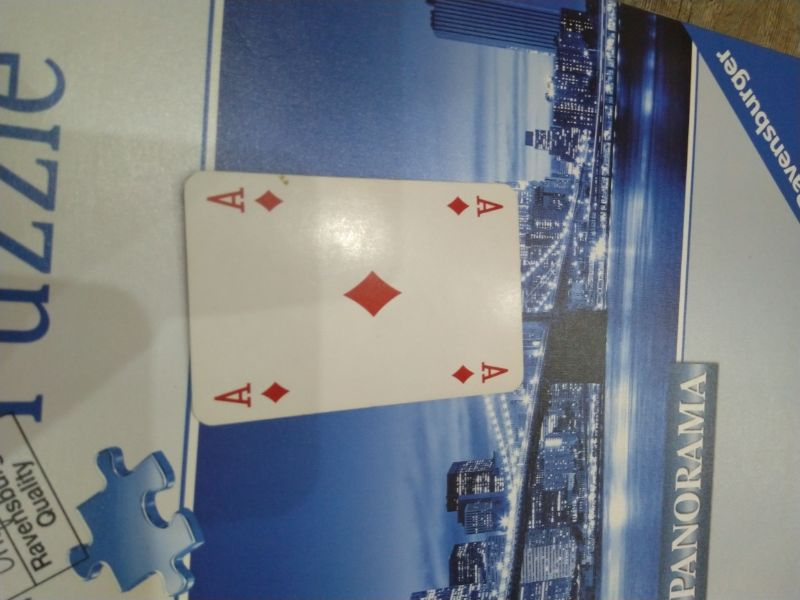Ad: (201, 177, 293, 222), (208, 377, 297, 409), (444, 355, 512, 388), (444, 187, 508, 220)
